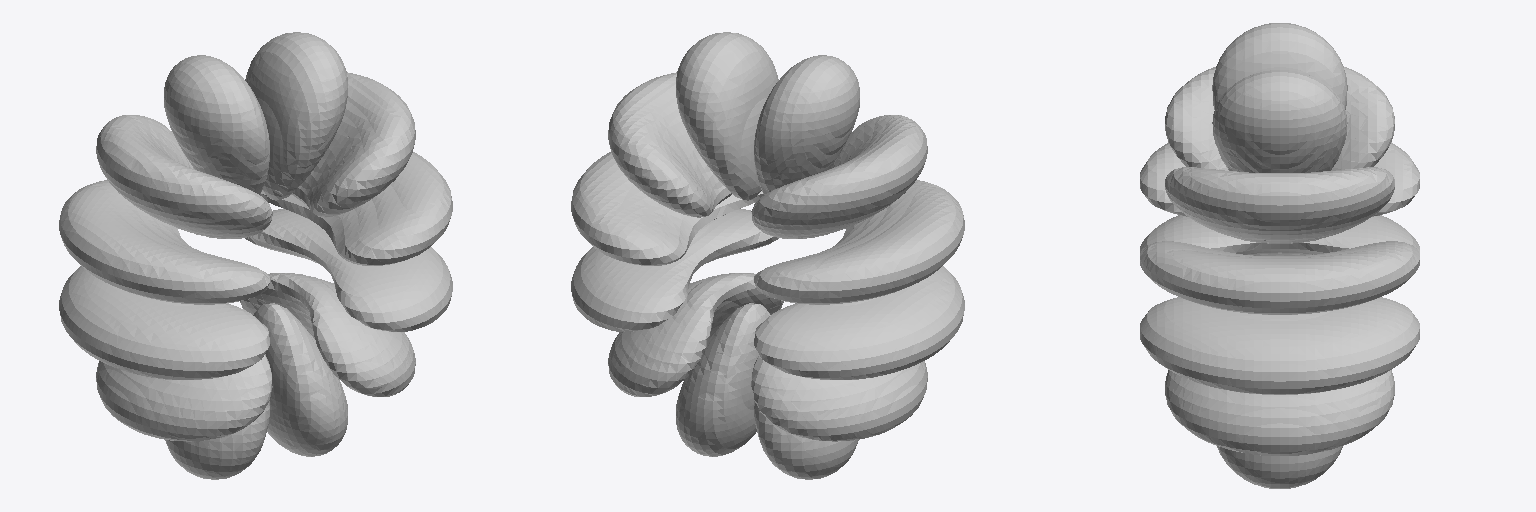
The model's file is orb_n=7_ l=6 _m=1.obj.
3 renders of one model, left to right at view 1: azimuth 30°, elevation 25°; view 2: azimuth 150°, elevation 25°; view 3: azimuth 270°, elevation 25°, orthographic.
Parts seen in each view (by area): view 1: orb_n=7__l=6__m=1; view 2: orb_n=7__l=6__m=1; view 3: orb_n=7__l=6__m=1.
Part boxes in pixels (left/top/right/bottom): orb_n=7__l=6__m=1: left=59, top=32, right=452, bottom=479; orb_n=7__l=6__m=1: left=571, top=32, right=964, bottom=479; orb_n=7__l=6__m=1: left=1140, top=23, right=1419, bottom=488.
Size of the model in its own units: 153 by 172 by 106.